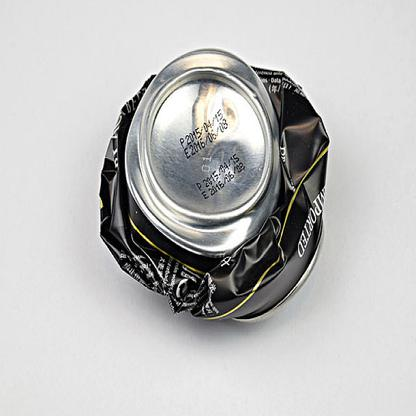can: (92, 44, 331, 329)
